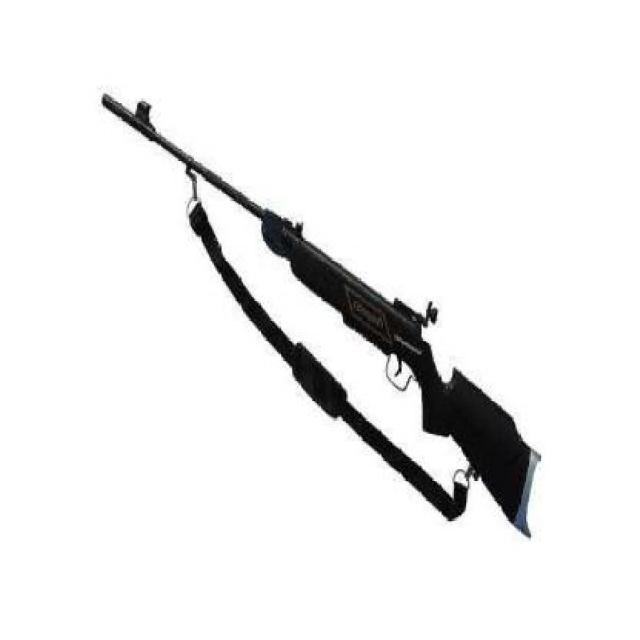weapon: (101, 93, 542, 540)
